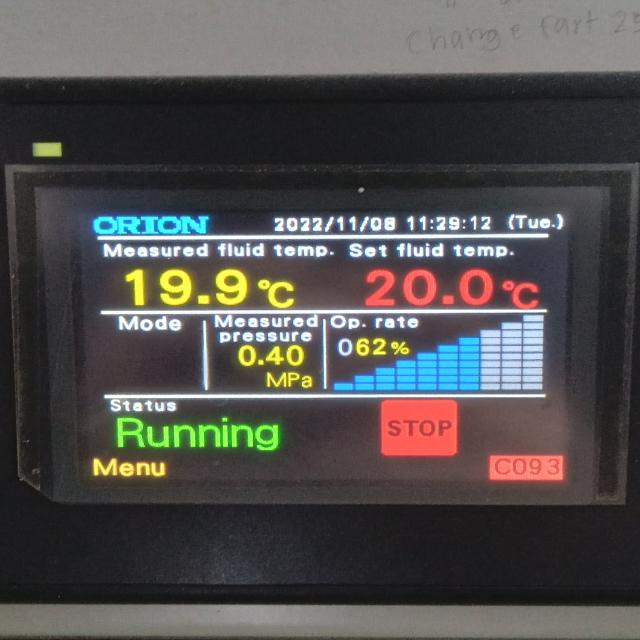display: (82, 209, 582, 485)
frame: (360, 265, 495, 310), (123, 263, 254, 308), (269, 214, 399, 233), (236, 342, 309, 370), (404, 213, 497, 233), (512, 455, 564, 480), (336, 335, 389, 359)
gauge: (0, 73, 640, 605)
